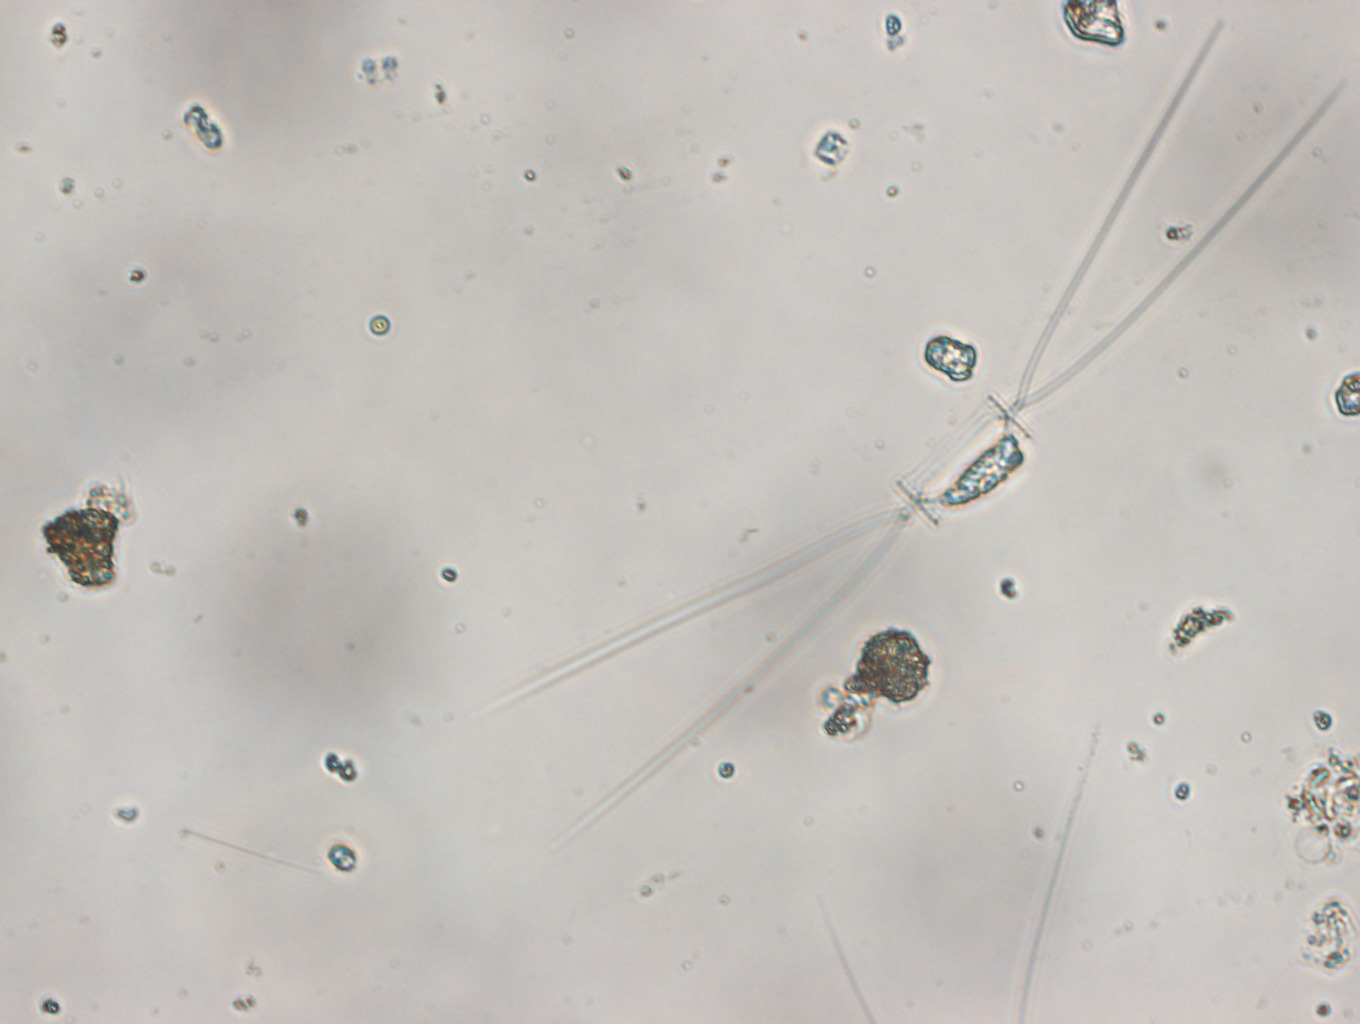chaetoceros: (498, 49, 1338, 829)
